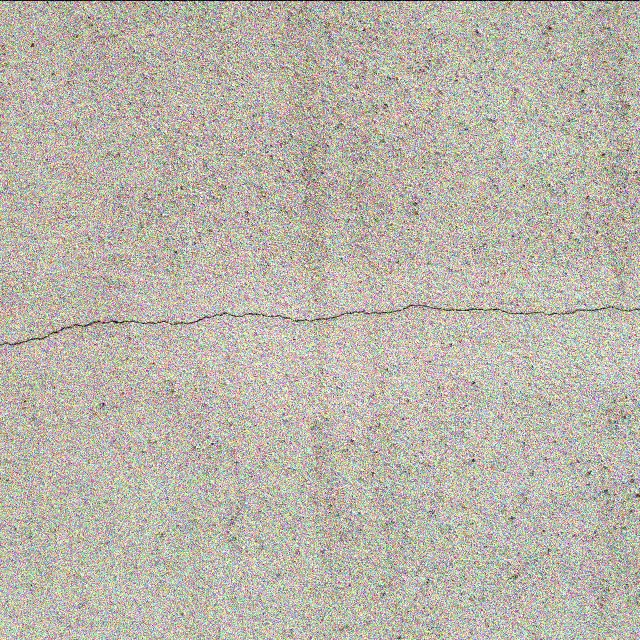SurfaceCrack: (1, 259, 639, 382)
